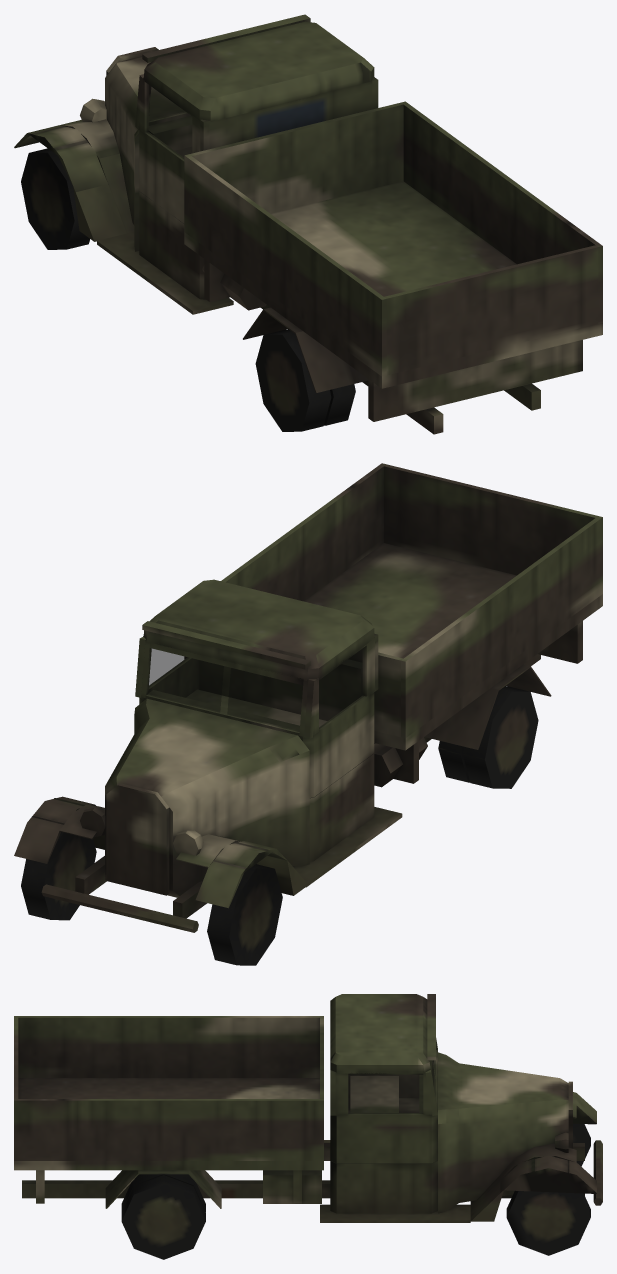
Rendered from PF621L_OPEN_LOW.fbx.
3 views of the same model, one above another, from view 1: azimuth 30°, elevation 25°; view 2: azimuth 150°, elevation 25°; view 3: azimuth 270°, elevation 25° (orthographic). The views are drawn at different scales.
Parts seen in each view (by area): view 1: Chassis, Roue_02, Roue_Gauche_01; view 2: Chassis, Roue_02, Roue_Gauche_01, Roue_Droite_01; view 3: Chassis, Roue_02, Roue_Droite_01, Roue_Gauche_01.
Part boxes in pixels (x1,y1,x2,y2): Chassis: (14,14,602,434); Roue_02: (255,329,355,431); Roue_Gauche_01: (21,148,89,249); Chassis: (14,463,602,932); Roue_02: (438,686,538,788); Roue_Gauche_01: (207,864,282,965); Roue_Droite_01: (21,832,96,920); Chassis: (14,994,602,1222); Roue_02: (121,1174,205,1259); Roue_Droite_01: (506,1190,590,1255); Roue_Gauche_01: (573,1123,590,1166).
Size of the model in its own units: 202 by 559 by 200.
2 materials, 1 textured.
